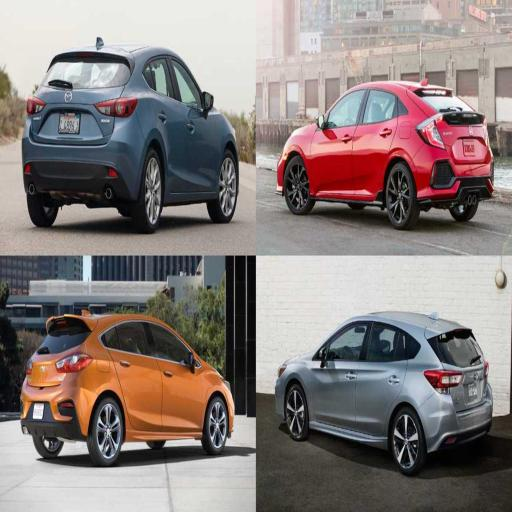Sedan-sDLz: (23, 38, 238, 232), (276, 313, 492, 474), (277, 81, 493, 229), (21, 316, 234, 465)
